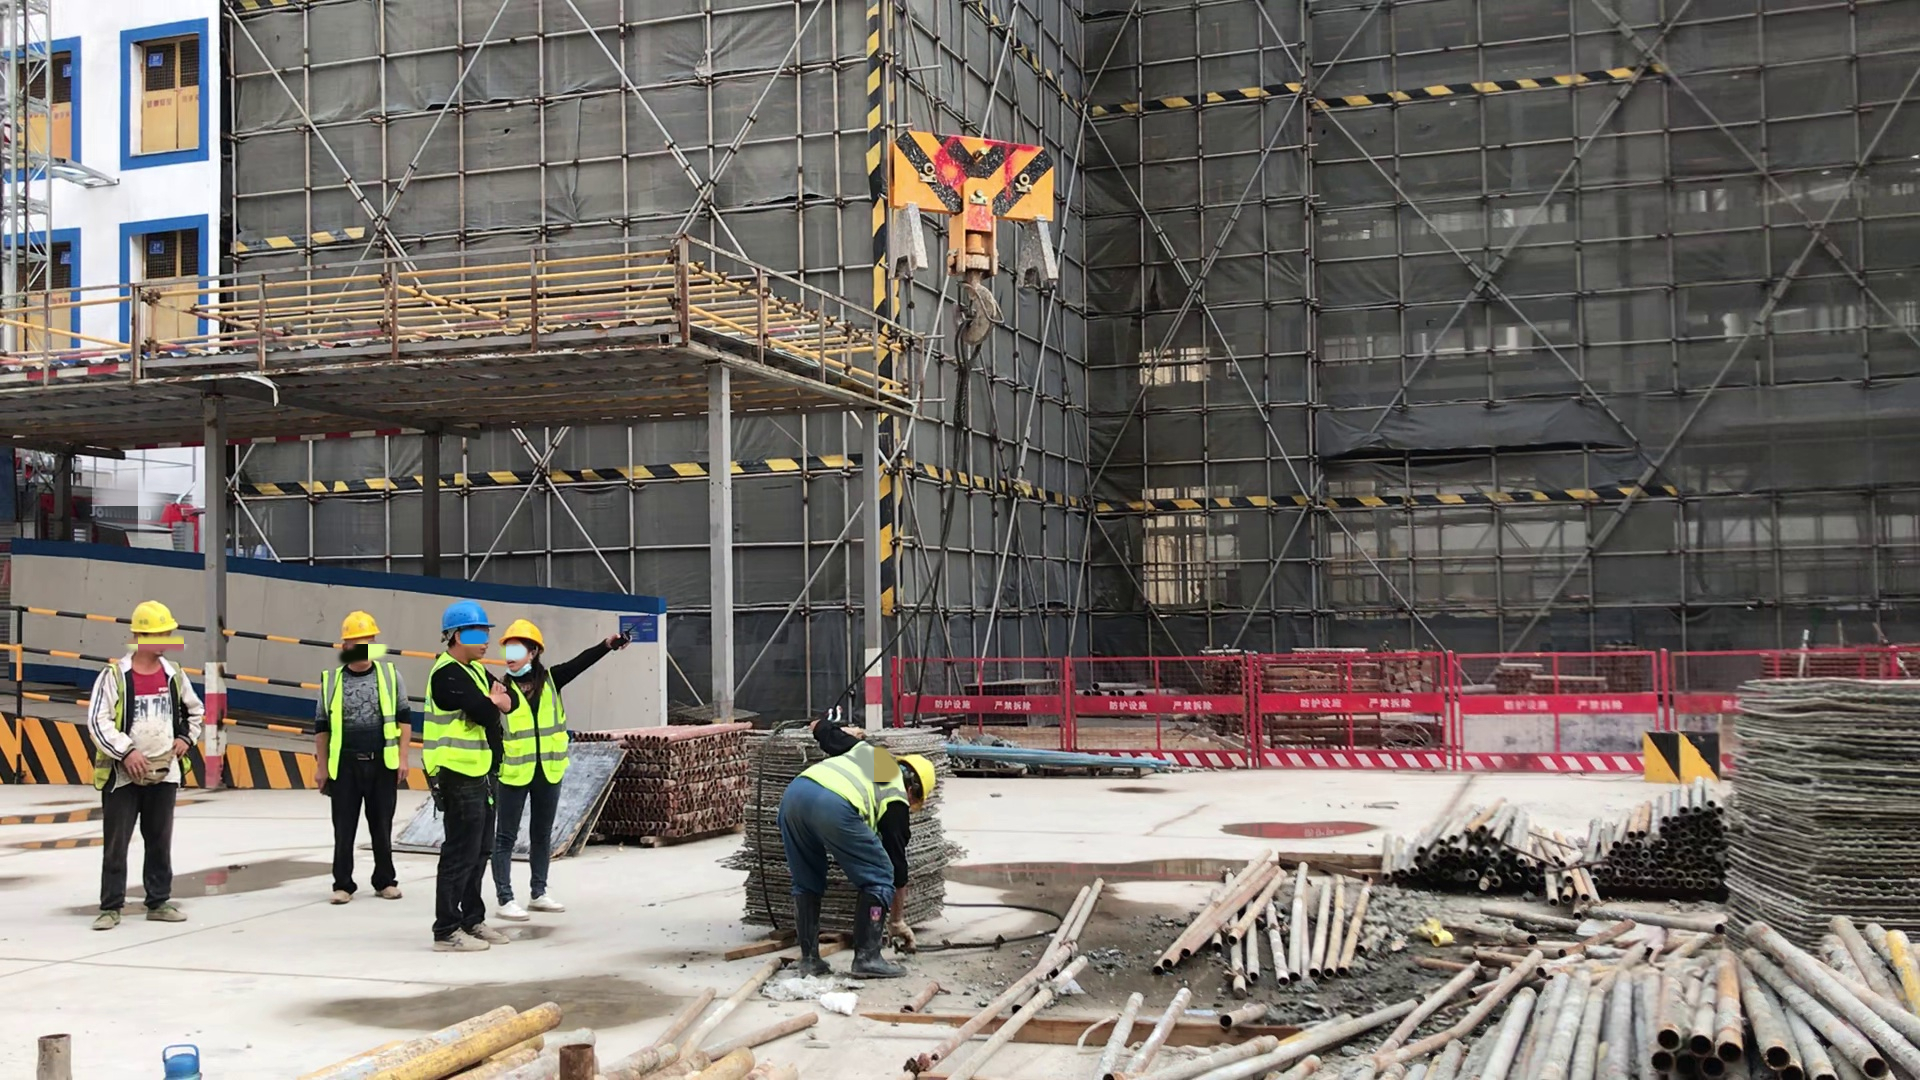fence: (896, 651, 1920, 770)
helmet: (895, 756, 934, 815), (500, 617, 547, 652), (130, 601, 179, 633), (443, 602, 496, 632), (339, 612, 380, 639)
hook: (888, 126, 1062, 350)
person: (788, 720, 939, 980), (92, 602, 203, 931), (424, 602, 506, 950), (496, 616, 584, 923), (319, 613, 406, 904)
scaffold: (586, 724, 740, 839)
vest: (425, 660, 496, 779), (328, 664, 400, 779), (797, 746, 909, 812), (508, 677, 569, 789)
